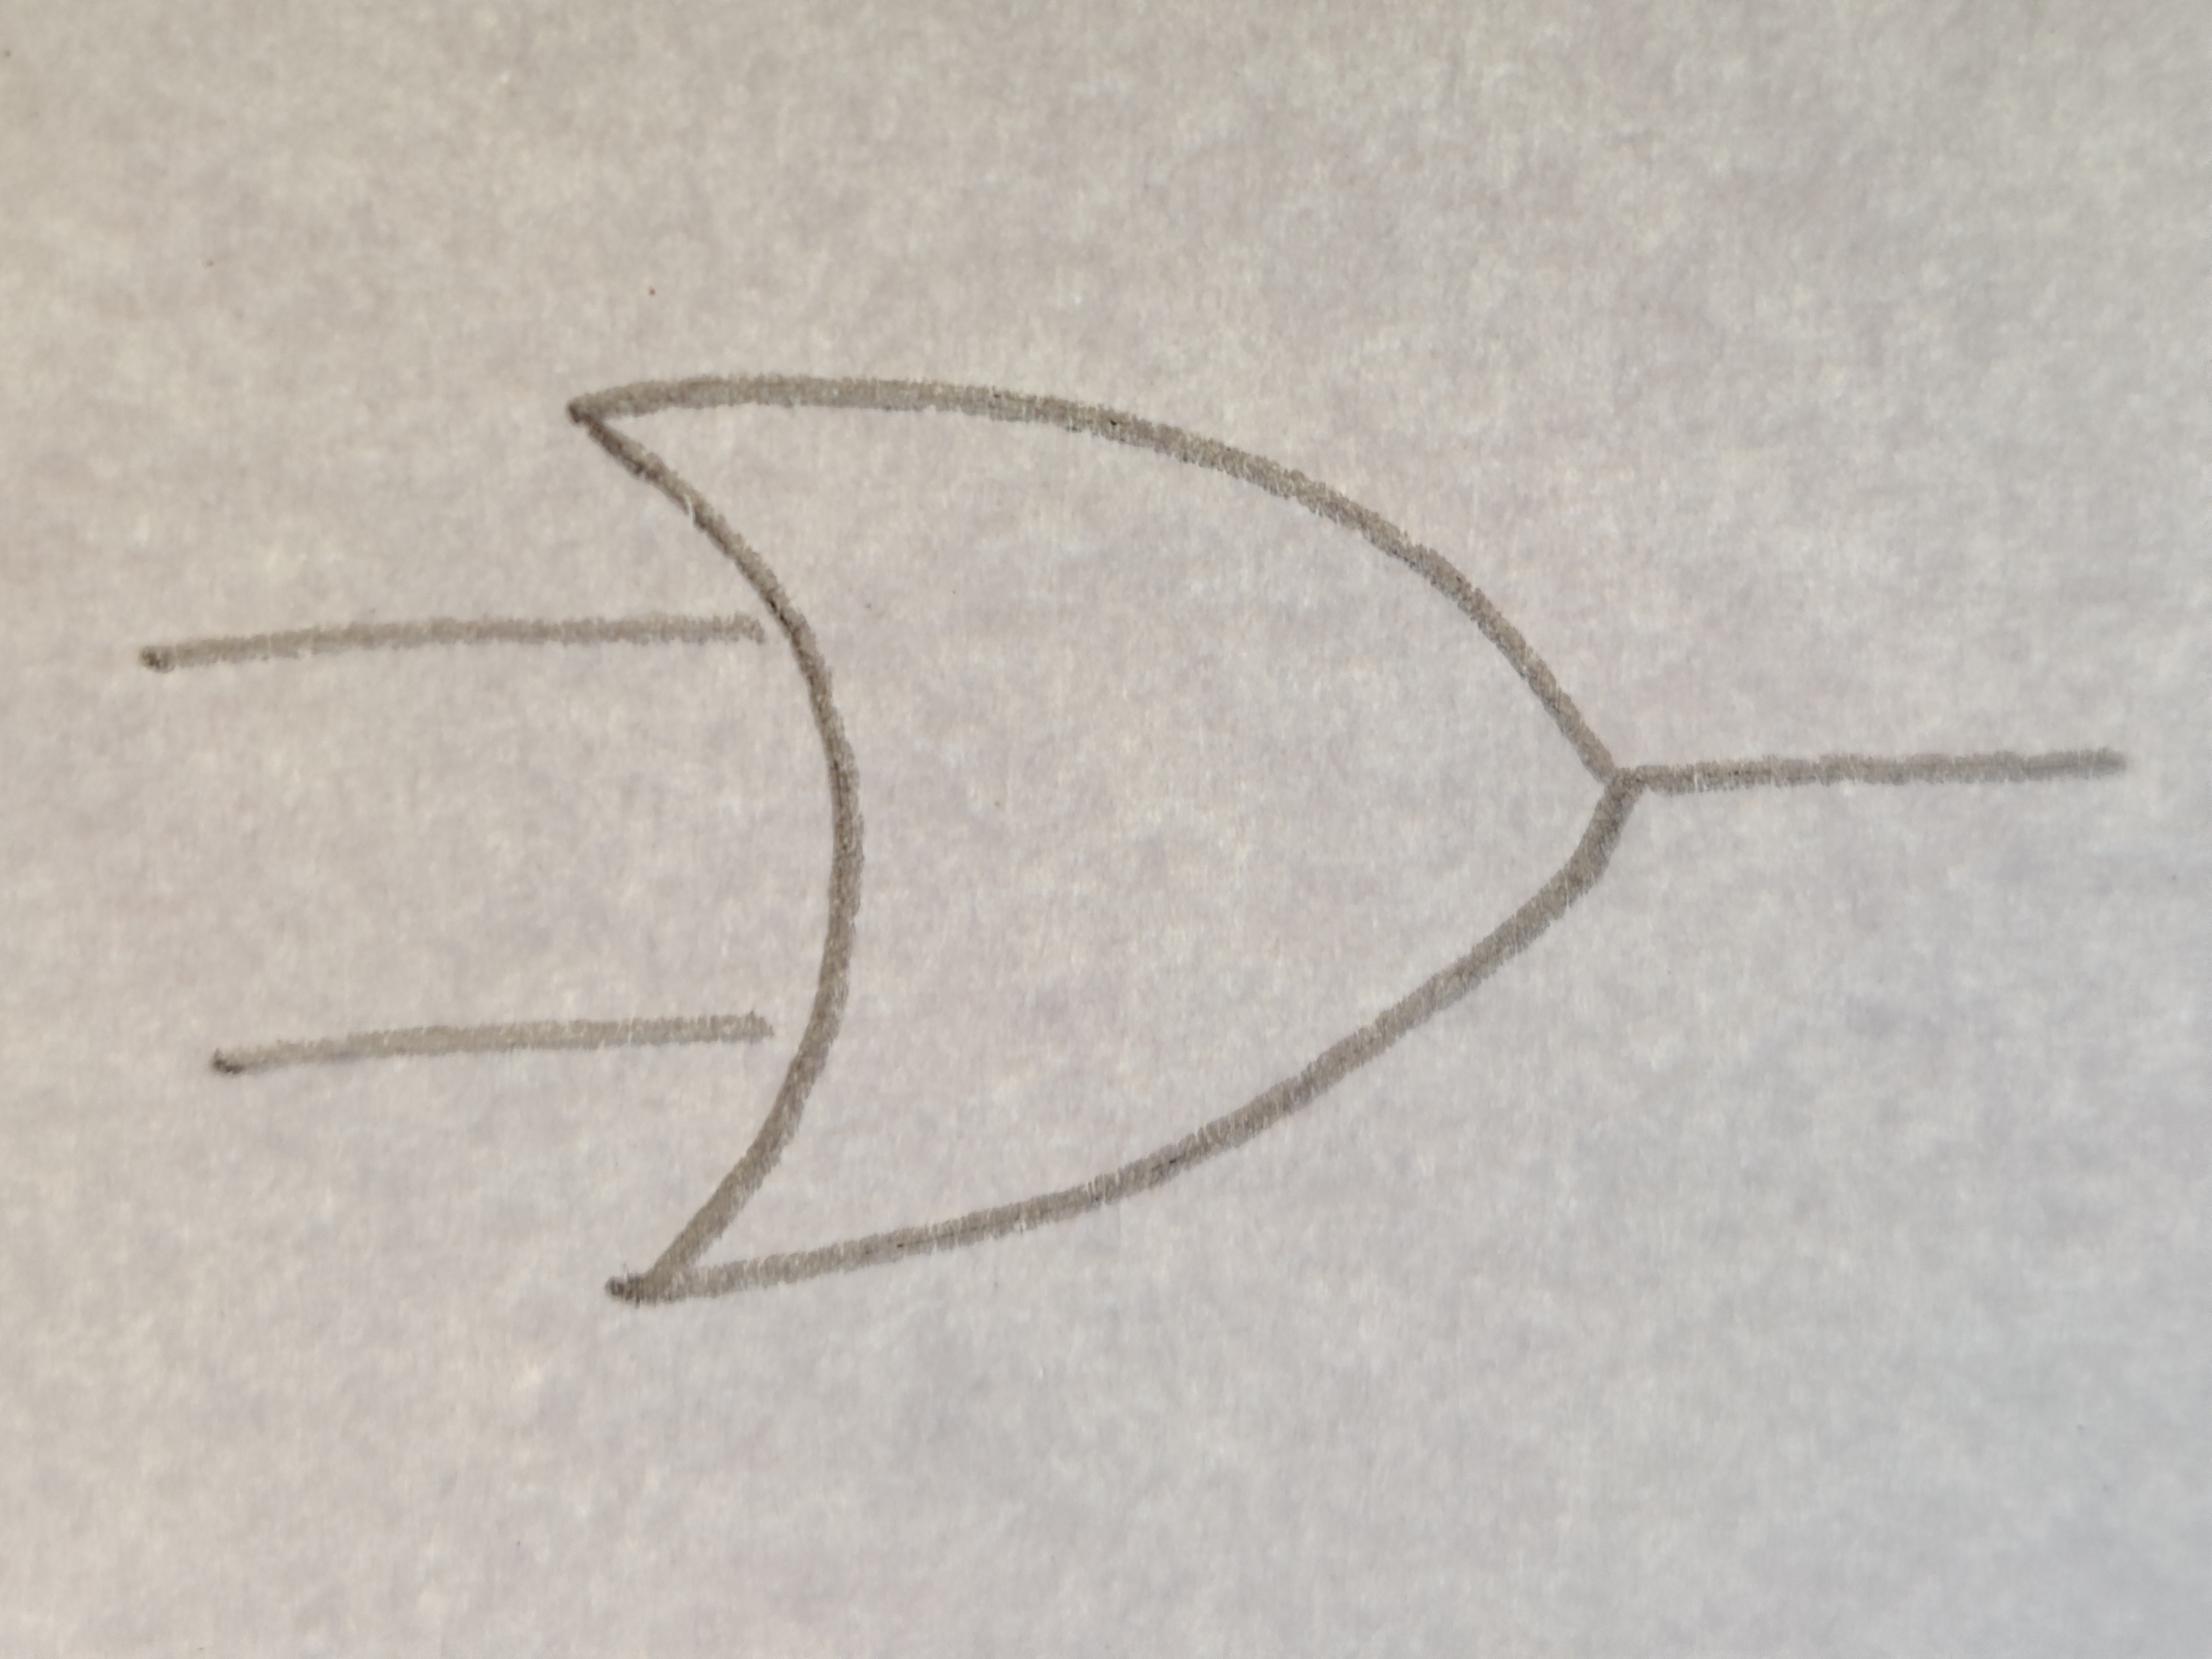or: (571, 376, 1635, 1298)
